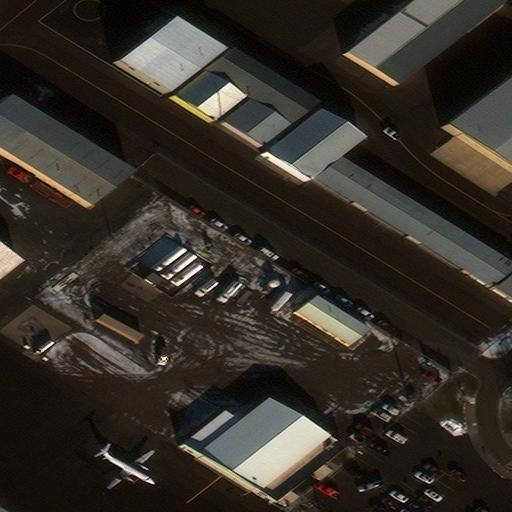Medium Civil Transport: (100, 449, 155, 489)
